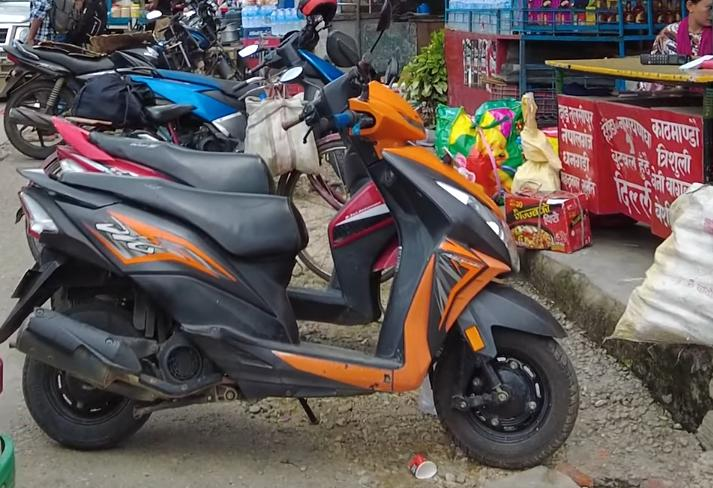scooter: (0, 76, 584, 475)
